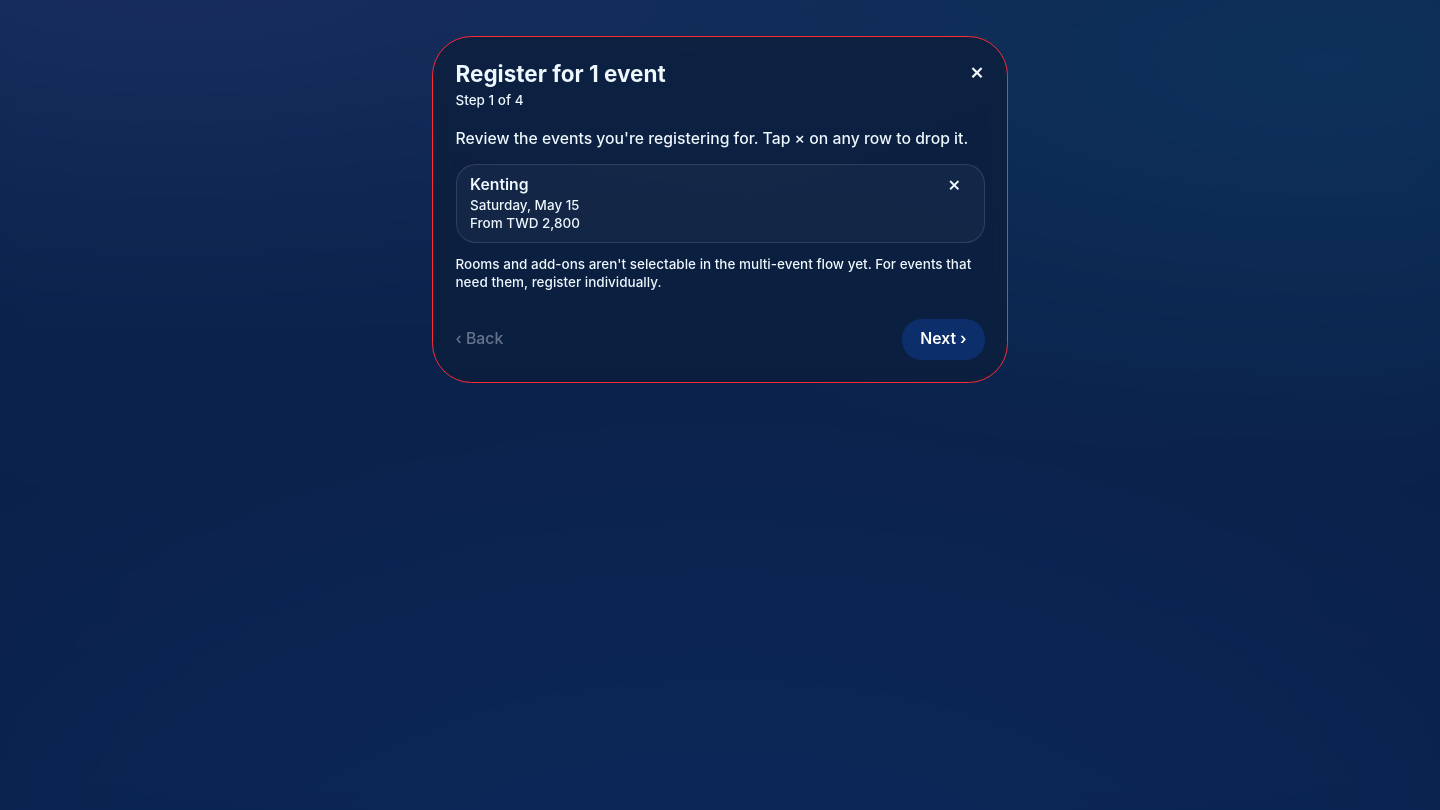
MultiRegisterForm parent diver picker › shows an itemized price breakdown per event on the payment step
The width and height of the screenshot is (1440, 810).
Click the button "Next ›" at (943, 339), box [902,319,984,360]
(page scrolled)
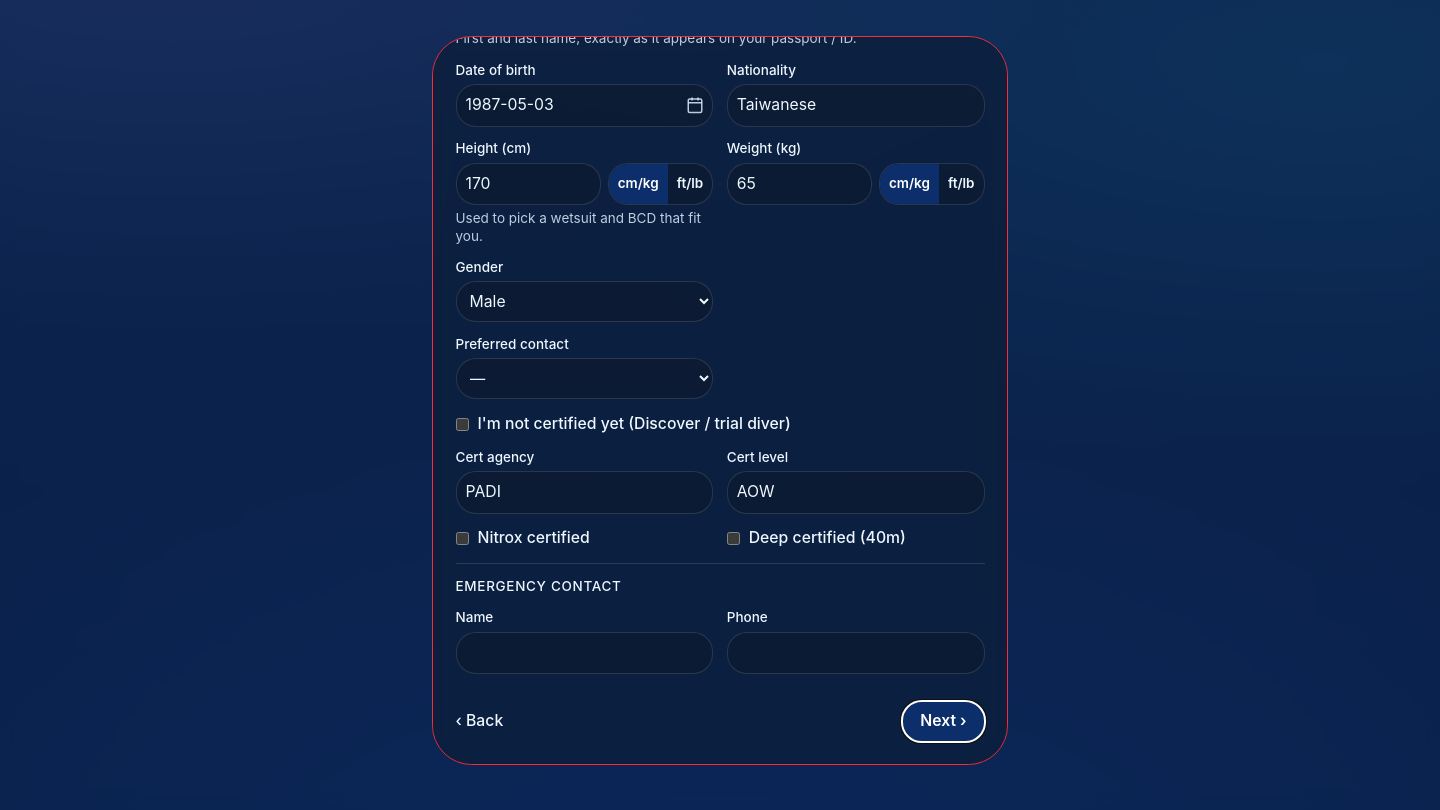
Click the button "Next ›" at (943, 722), box [902,701,984,742]
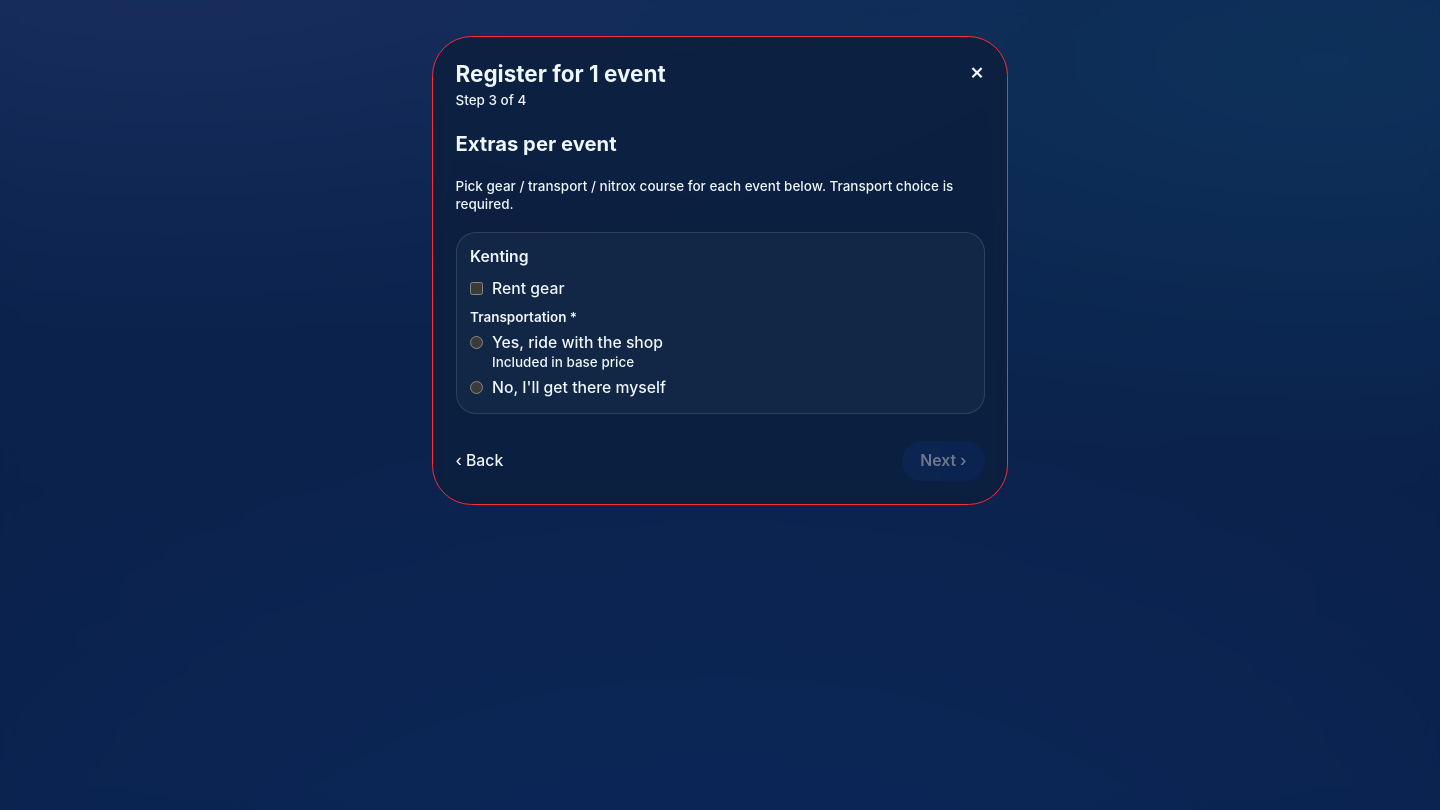
Click the radio button labelled "No, I'll get there myself" at (476, 388), box [470,381,483,394]
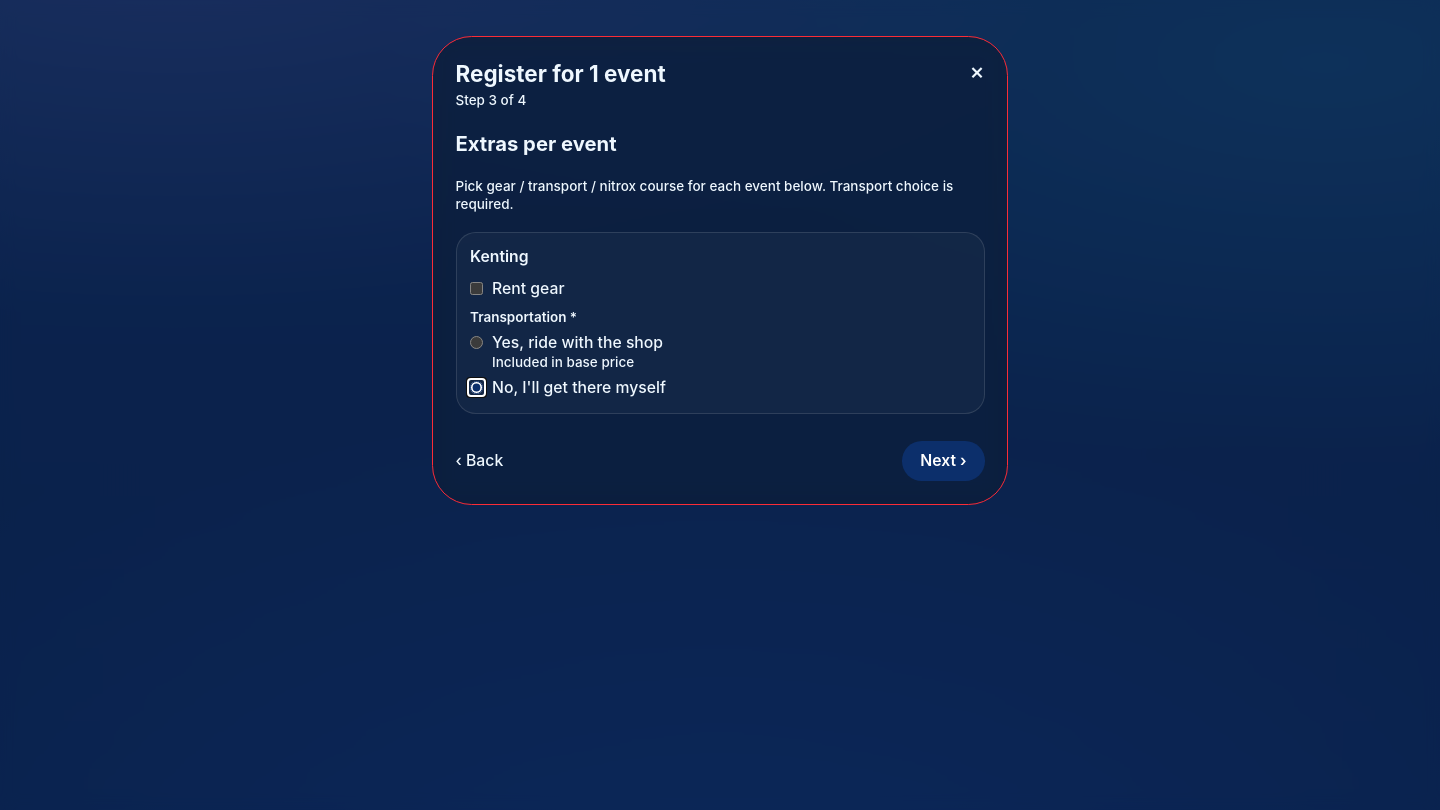
Click the button "Next ›" at (943, 461), box [902,440,984,481]
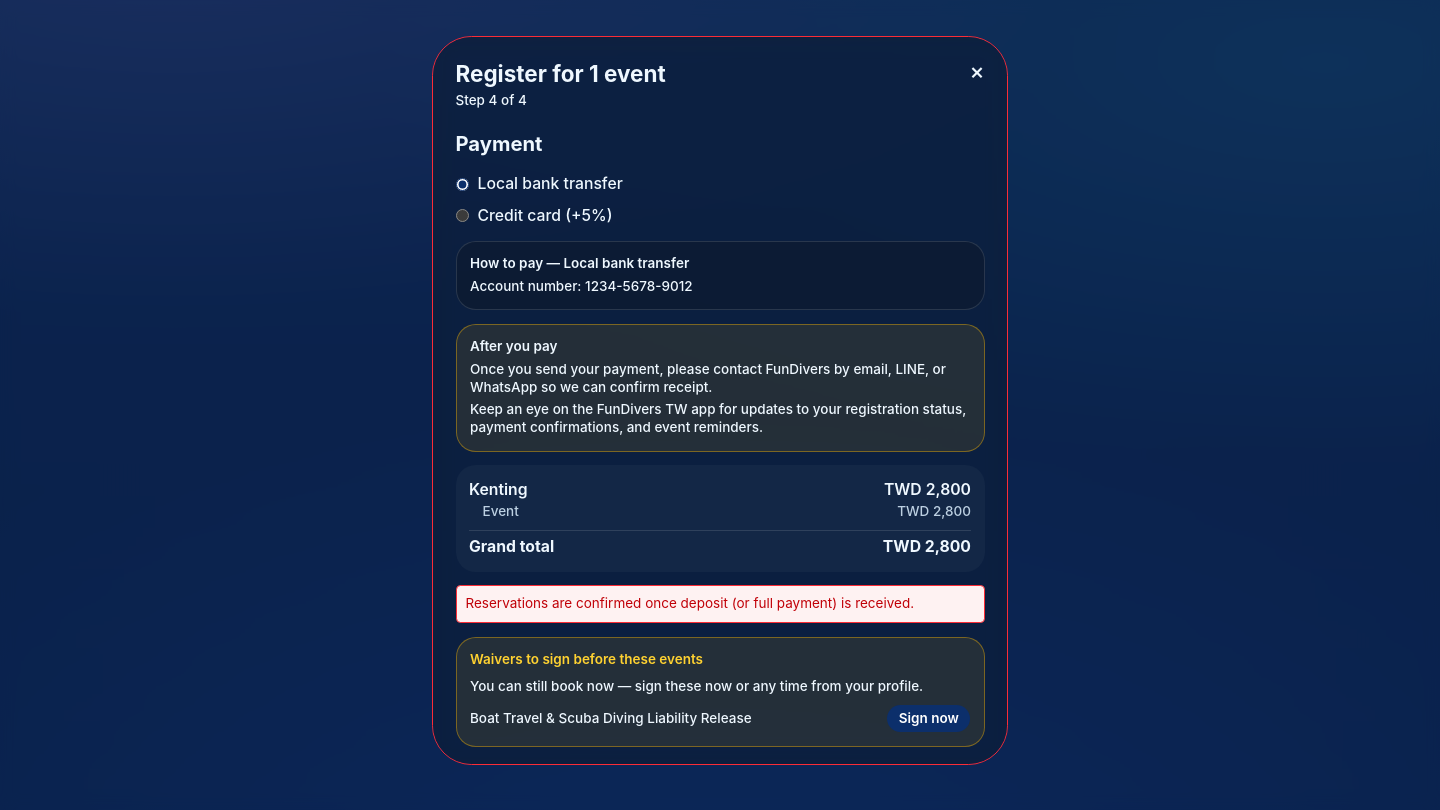
Expected: the text "Event" is shown, [482,503,519,521]
Expected: the text "Grand total" is shown, [469,536,554,558]
